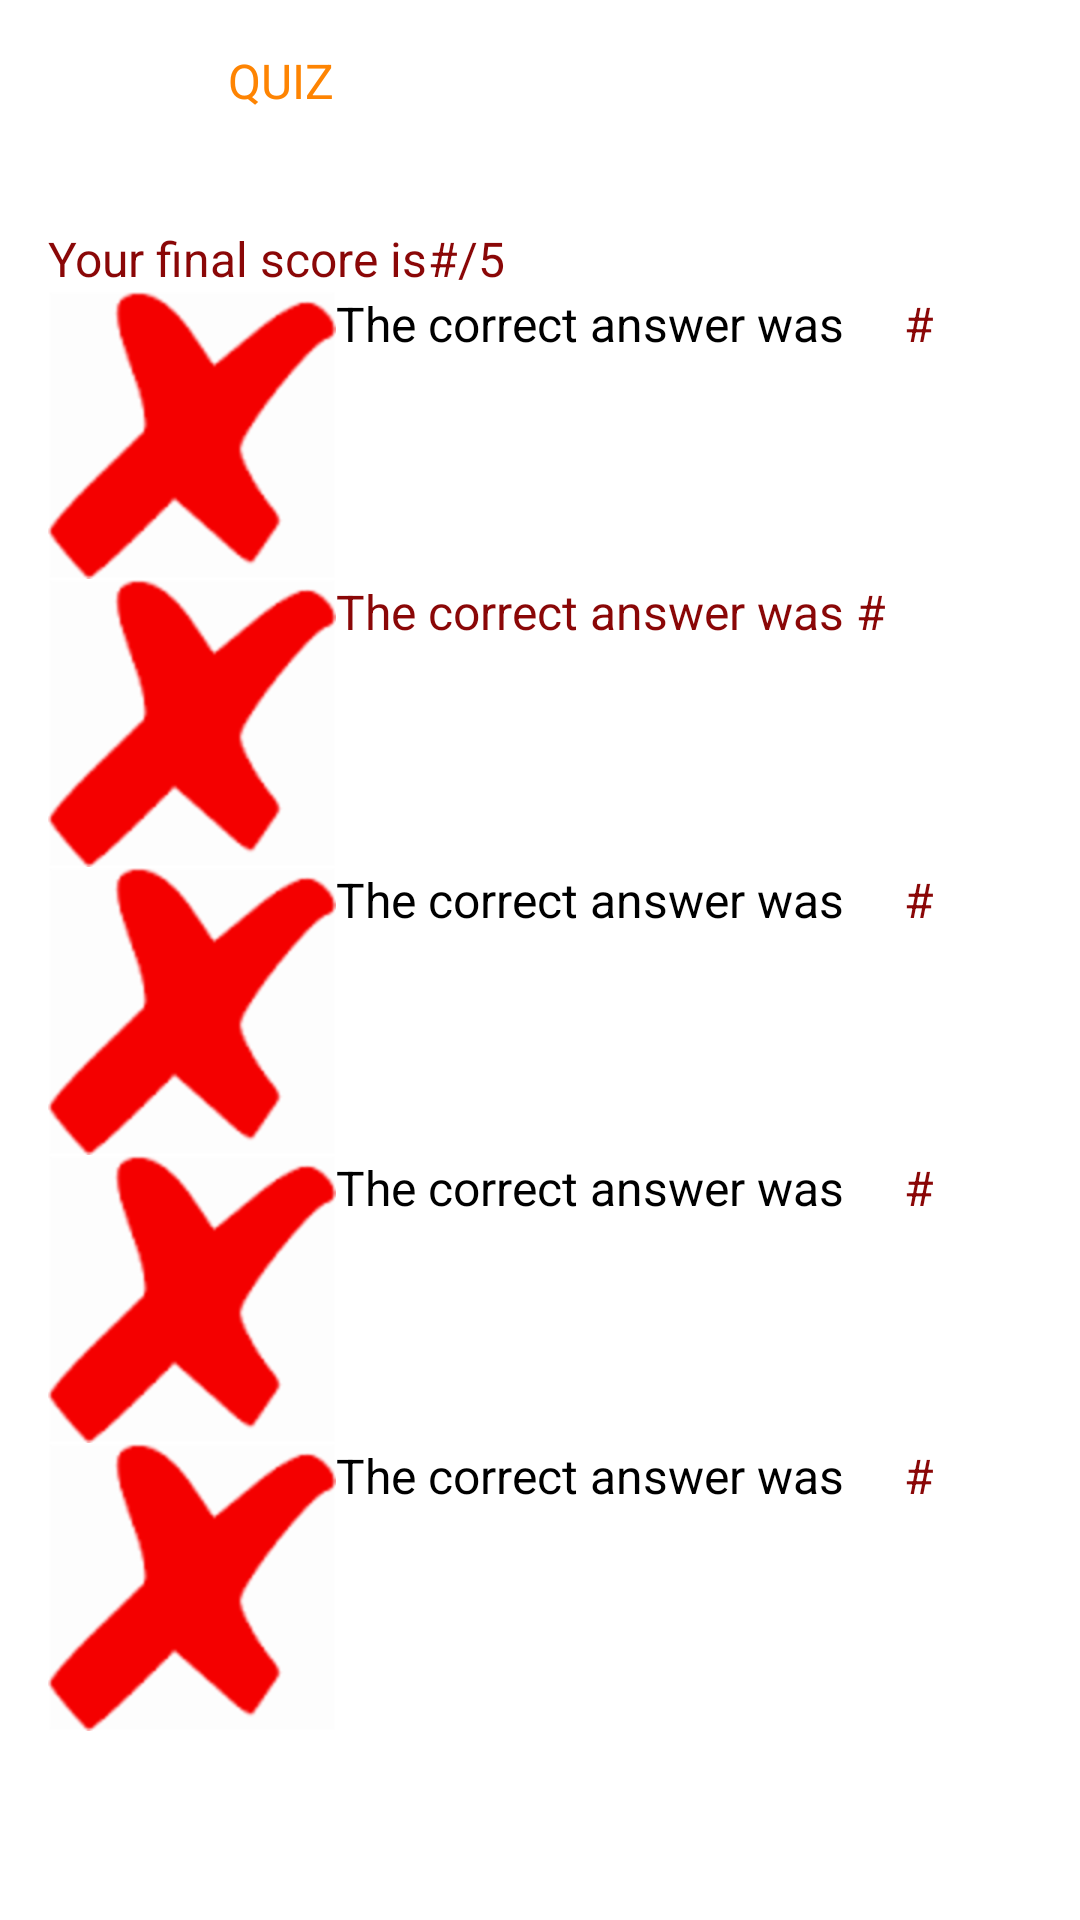

Icon bounding boxes for this 1080x1920 phone screenshot, format [x1,y1,x2,y2]:
wrong: [48,292,336,579], [48,580,336,867], [48,868,336,1155], [48,1156,336,1443], [48,1444,336,1731]
